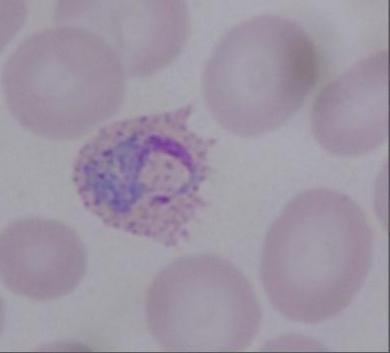Infected: (75, 107, 213, 248)
Uninfected: (261, 184, 370, 320), (201, 17, 316, 134), (7, 32, 124, 138), (148, 257, 258, 353), (57, 0, 189, 78), (313, 54, 390, 157), (0, 219, 87, 300)
